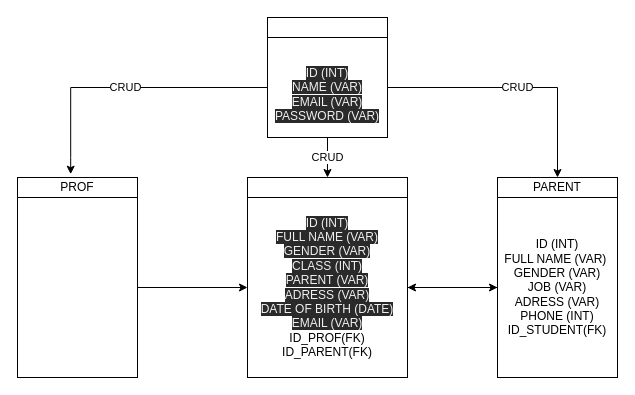
Some shapes in this 635 by 395 pixel diagram are drawn without their labels. The box of each missing label's shape, as (x1, y1, x2, y2) in pixels:
ADMIN: (266, 16, 388, 38)
ID (INT) FULL NAME (VAR) GENDER (VAR) MATIERE (VAR) PHONE (VAR): (16, 196, 138, 378)
STUDENT: (246, 176, 408, 198)
